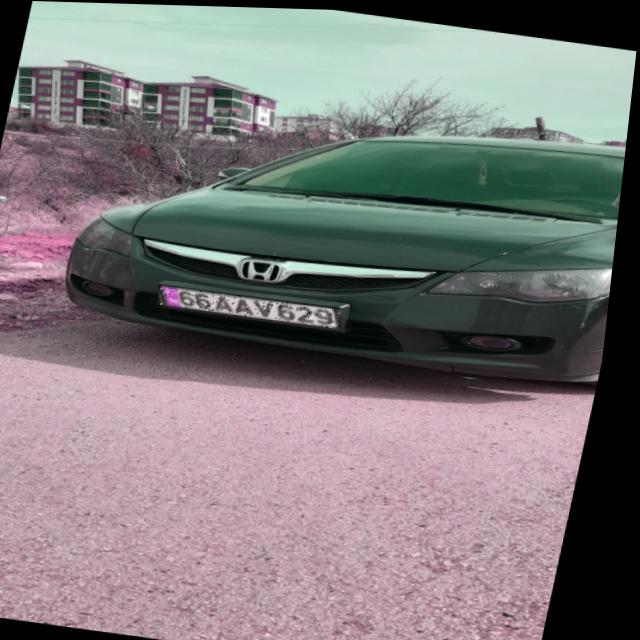plate: (162, 284, 350, 326)
